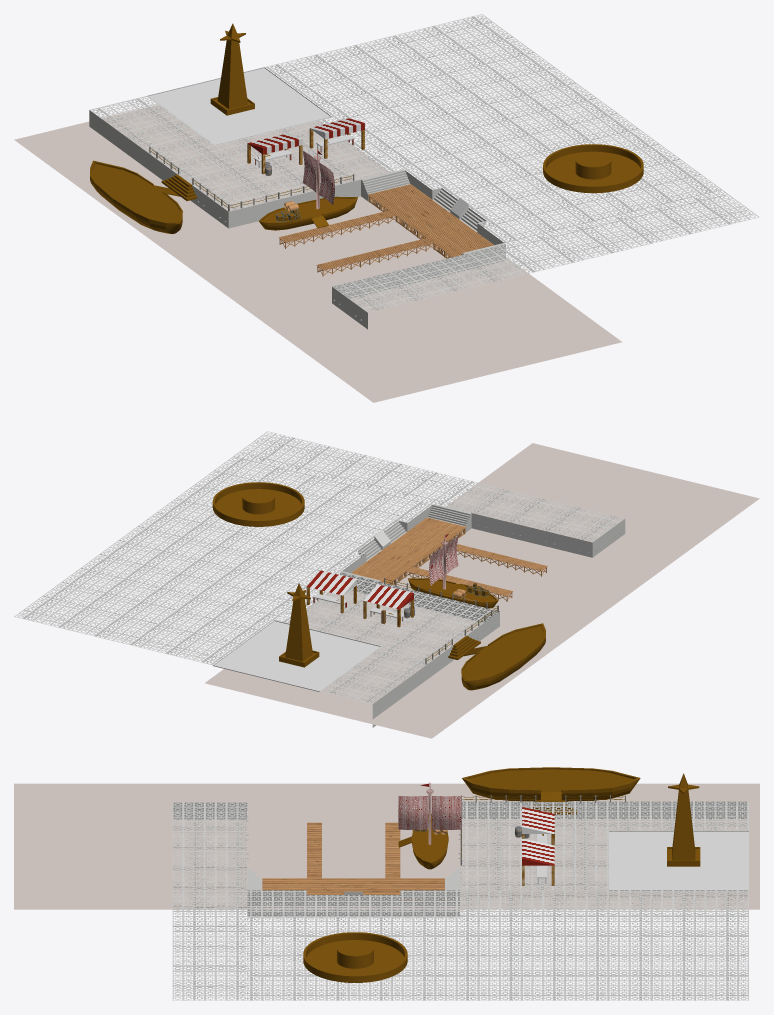
File: Dock.fbx
3 renders of one model, top to bottom at view 1: azimuth 30°, elevation 25°; view 2: azimuth 150°, elevation 25°; view 3: azimuth 270°, elevation 25°, orthographic. The views are drawn at different scales.
Parts seen in each view (by area): view 1: Cylinder.013; view 2: Cylinder.013; view 3: Cylinder.013.
Part boxes in pixels (<box>): Cylinder.013: <box>14,14,759,402</box>; Cylinder.013: <box>14,431,759,738</box>; Cylinder.013: <box>14,767,759,1000</box>.
Size of the model in its own units: 14920 by 3335 by 20000.
